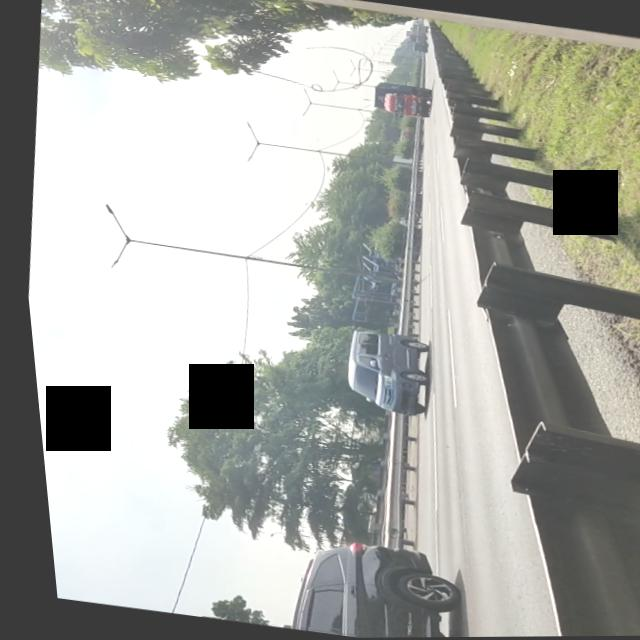Golongan I: (327, 323, 437, 424)
